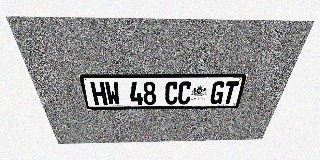4: (129, 82, 143, 105)
8: (143, 82, 156, 105)
C: (177, 81, 192, 104), (165, 81, 179, 105)
G: (209, 81, 226, 104)
H: (90, 82, 108, 105)
T: (221, 81, 239, 104)
W: (104, 82, 121, 105)
